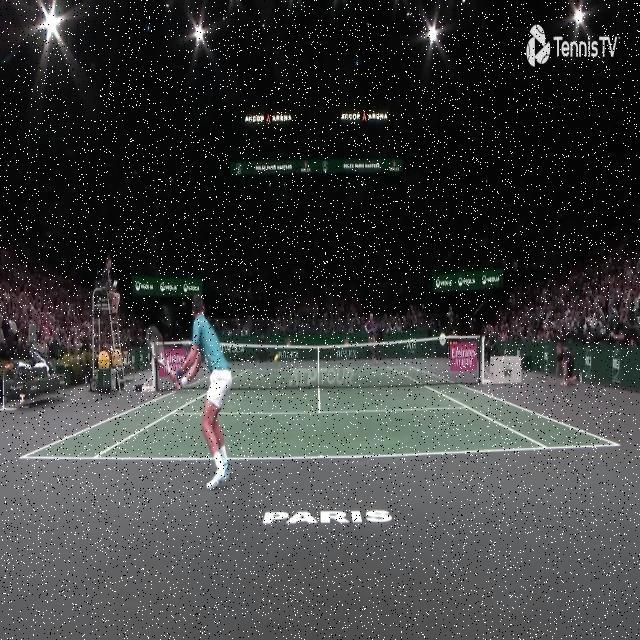court: (18, 364, 622, 462)
net: (150, 335, 487, 388)
player: (144, 288, 234, 493)
